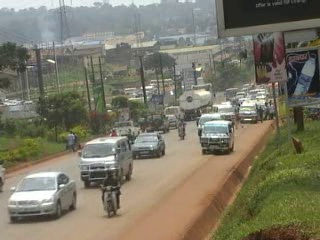Car: (6, 170, 79, 221), (126, 129, 167, 160), (144, 110, 170, 135), (164, 113, 182, 128)
Motorcycle: (98, 166, 125, 217), (174, 116, 189, 141), (136, 112, 146, 133)
